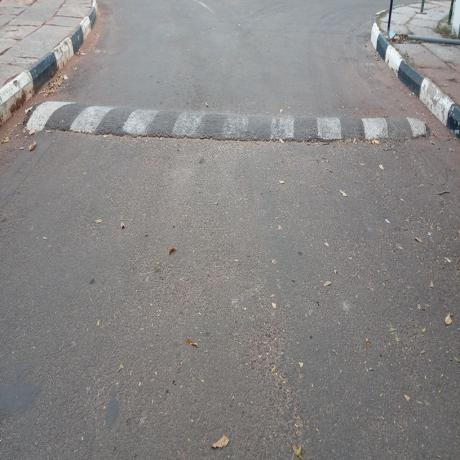Speed Bump: (27, 96, 428, 148)
